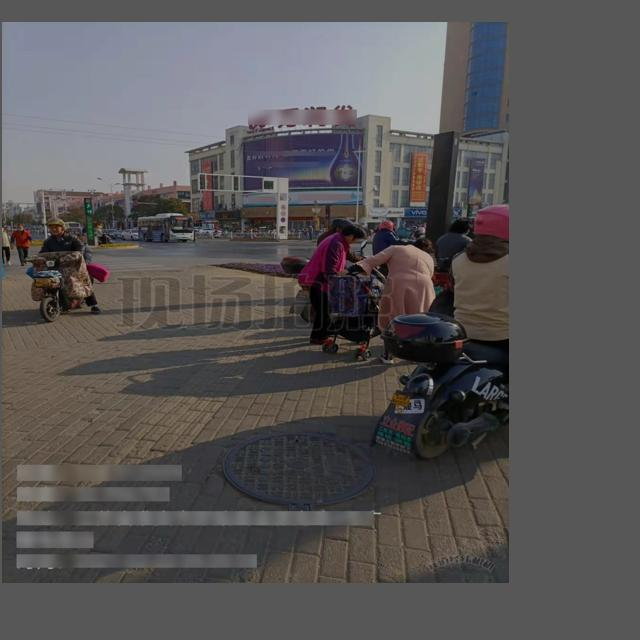good: (221, 429, 375, 507)
